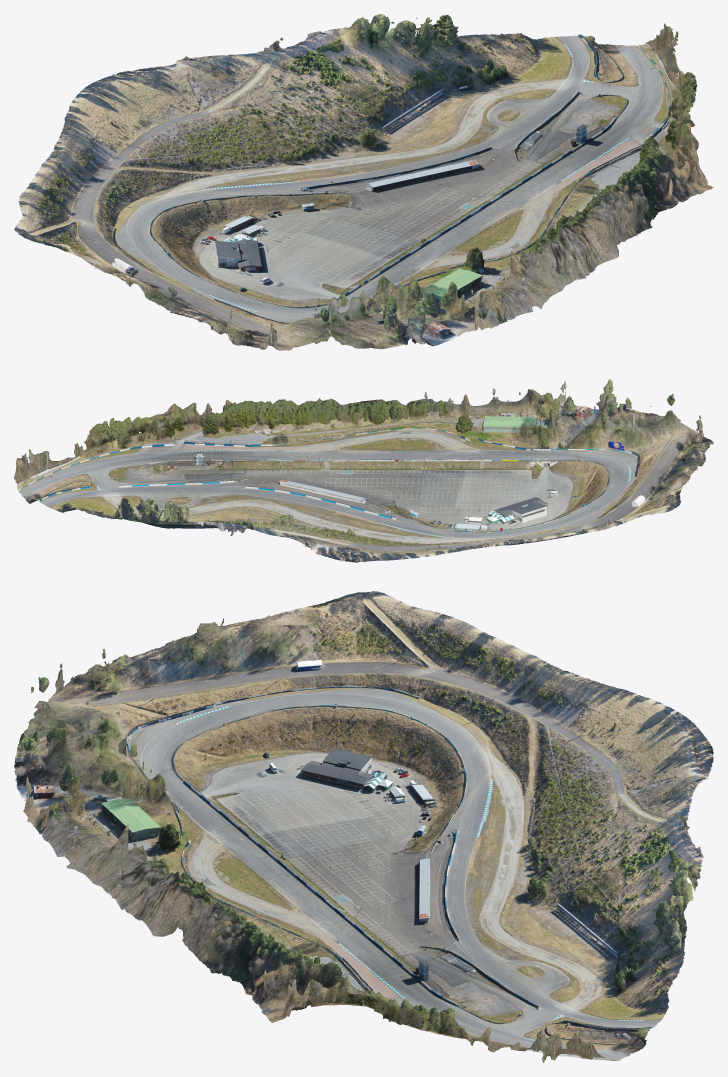
The model's file is world2.glb.
3 views of the same model, one above another, from view 1: azimuth 30°, elevation 25°; view 2: azimuth 150°, elevation 25°; view 3: azimuth 270°, elevation 25° (orthographic). The views are drawn at different scales.
Visible parts, largest first — view 1: static_terrain; view 2: static_terrain; view 3: static_terrain.
Part boxes in pixels (x1,y1,x2,y2): static_terrain: (14, 14, 713, 350); static_terrain: (14, 379, 713, 562); static_terrain: (14, 591, 713, 1062).
Bounding box in the file's own units: 29.53 × 3 × 21.92.
4 materials, 4 textured.
